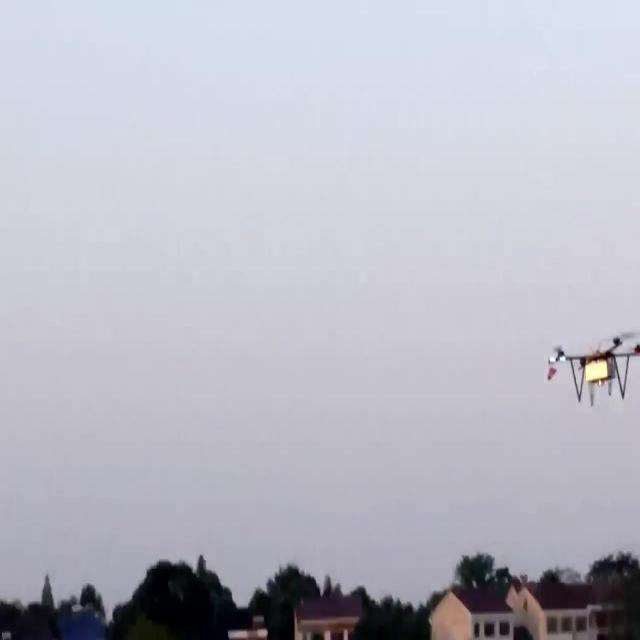UAV: (547, 332, 640, 407)
